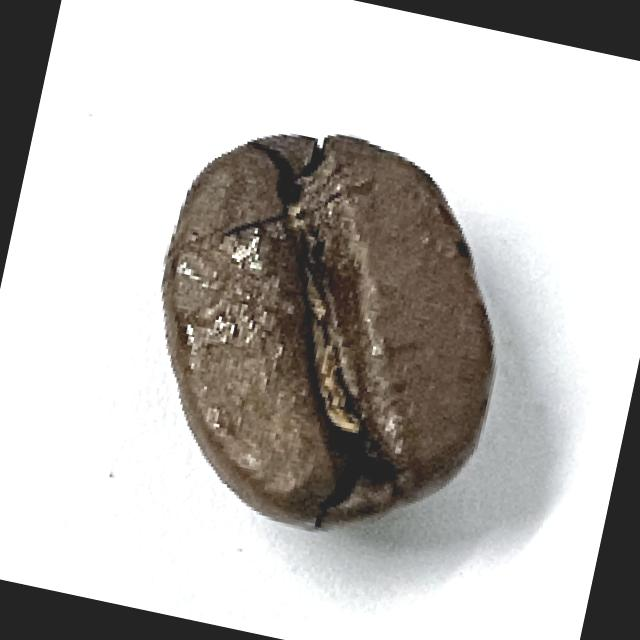bean: (109, 98, 540, 561)
